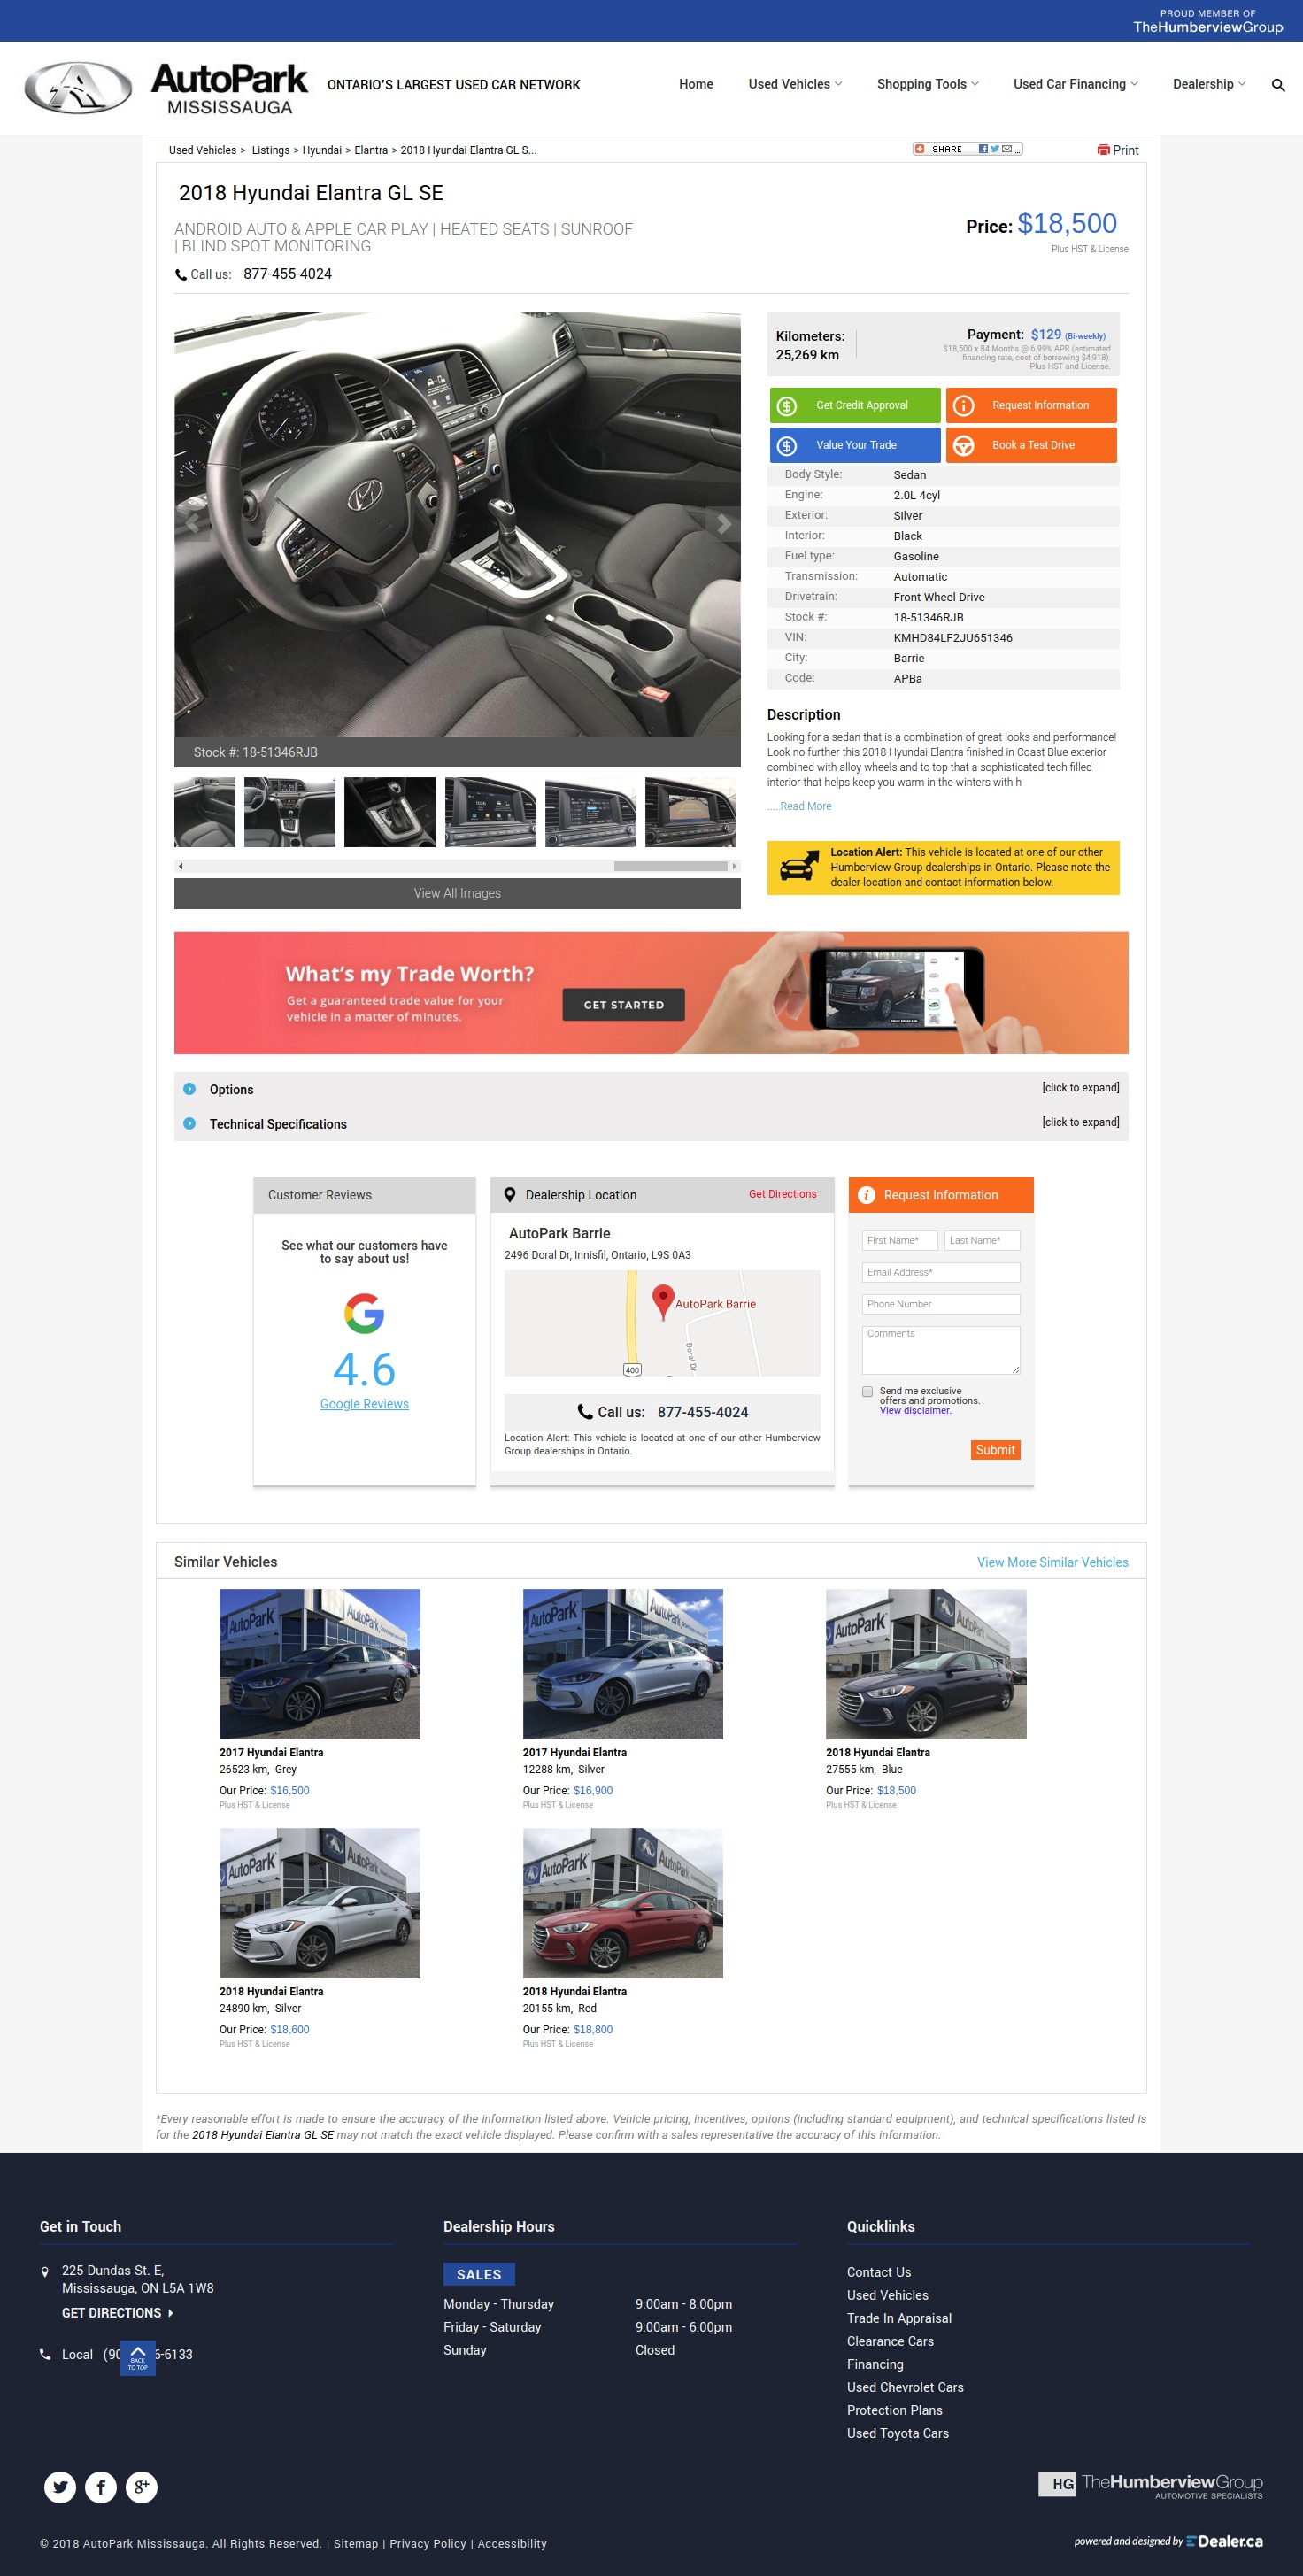car: (703, 507, 743, 545)
